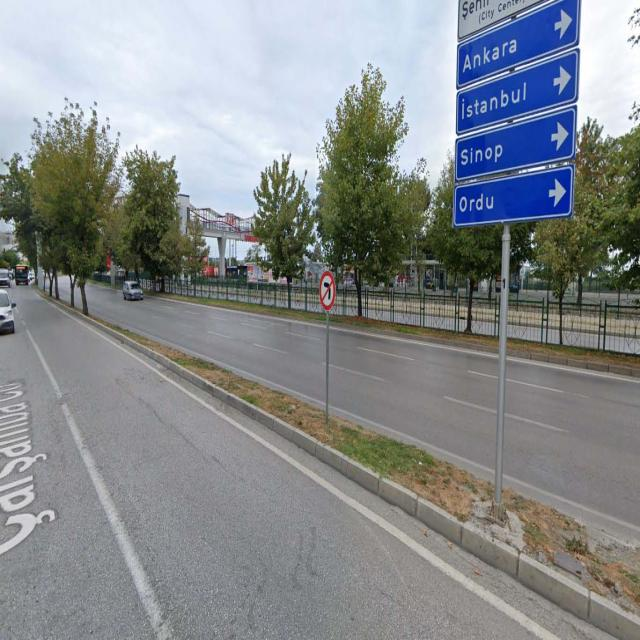soladonulmez: (319, 269, 336, 311)
